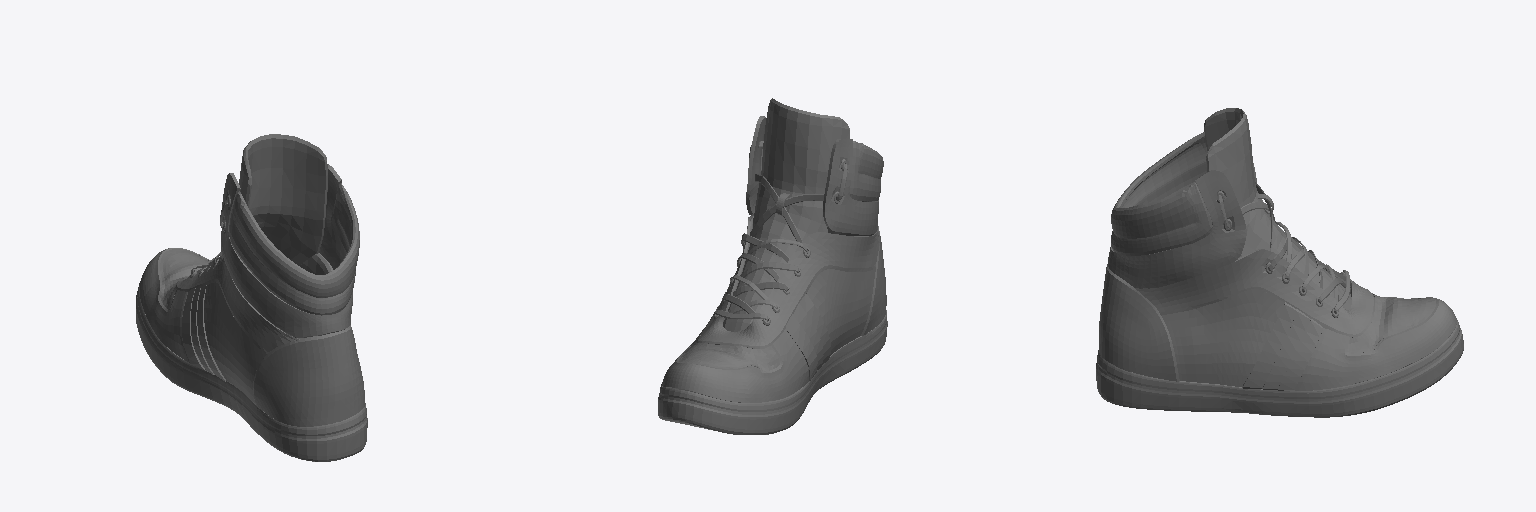
File: 3dShoe.obj
3 renders of one model, left to right at view 1: azimuth 30°, elevation 25°; view 2: azimuth 150°, elevation 25°; view 3: azimuth 270°, elevation 25°, orthographic.
Parts seen in each view (by area): view 1: Fleur-de-Lis_black_shoe_Mesh.005; view 2: Fleur-de-Lis_black_shoe_Mesh.005; view 3: Fleur-de-Lis_black_shoe_Mesh.005.
Boxes of the visible parts, x1,y1,x2,y2 form: Fleur-de-Lis_black_shoe_Mesh.005: [136, 134, 367, 461]; Fleur-de-Lis_black_shoe_Mesh.005: [658, 98, 887, 434]; Fleur-de-Lis_black_shoe_Mesh.005: [1096, 108, 1463, 417].
Bounding box in the file's own units: 4.78 × 10.76 × 13.17.